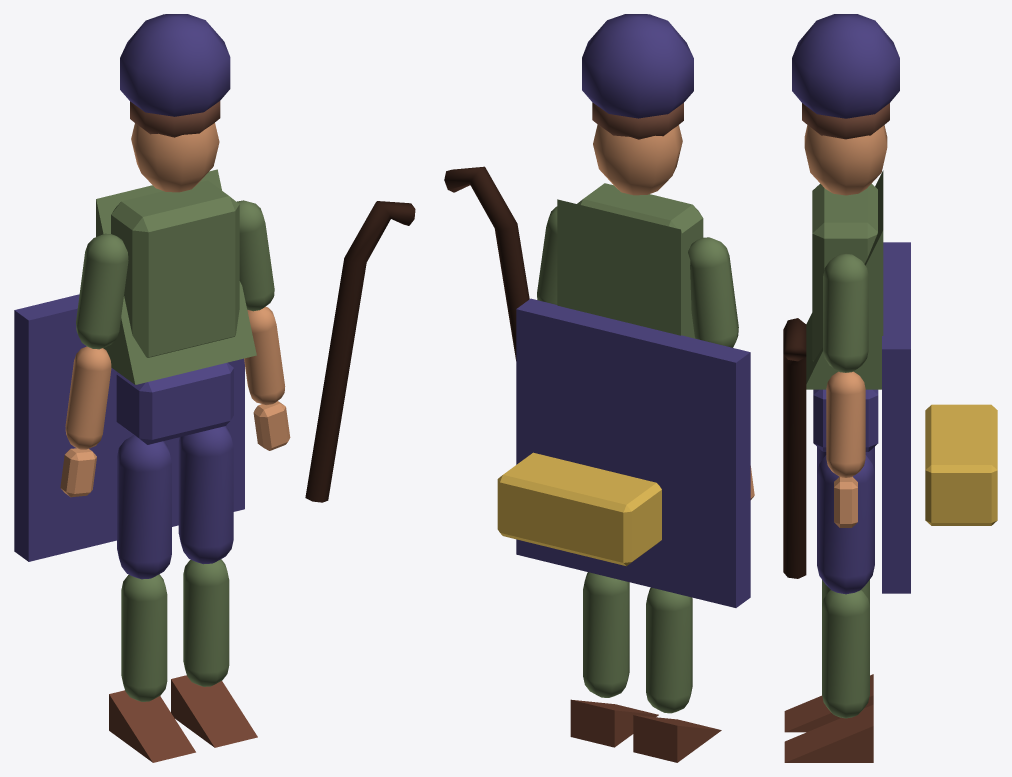
File: adventurer.rustic.glb
3 renders of one model, left to right at view 1: azimuth 30°, elevation 25°; view 2: azimuth 150°, elevation 25°; view 3: azimuth 270°, elevation 25°, orthographic.
Visible parts, largest first — view 1: accessory.back, torso, accessory.head, accessory.main-hand, thigh.left, pelvis, thigh.right, tunic, shin.right, shin.left, upper-arm.left, head (+8 smaller); view 2: accessory.back, tunic, accessory.waist, accessory.head, shin.left, shin.right, upper-arm.left, head, accessory.main-hand, torso, foot.left, foot.right (+2 smaller); view 3: accessory.back, accessory.head, accessory.waist, accessory.main-hand, shin.right, thigh.right, torso, upper-arm.right, head, tunic, forearm.right, foot.right (+4 smaller).
Boxes of the visible parts, <box> form: accessory.back: <box>14,294,244,561</box>; torso: <box>111,180,239,357</box>; accessory.head: <box>120,14,230,116</box>; accessory.main-hand: <box>305,201,415,502</box>; thigh.left: <box>117,435,171,579</box>; pelvis: <box>116,362,233,444</box>; thigh.right: <box>178,426,233,564</box>; tunic: <box>96,169,256,384</box>; shin.right: <box>183,559,229,686</box>; shin.left: <box>121,574,167,701</box>; upper-arm.left: <box>76,233,128,349</box>; head: <box>131,123,219,192</box>; accessory.back: <box>516,298,750,607</box>; tunic: <box>557,199,695,338</box>; accessory.waist: <box>497,452,661,566</box>; accessory.head: <box>582,14,693,118</box>; shin.left: <box>646,587,692,713</box>; shin.right: <box>583,572,629,697</box>; upper-arm.left: <box>688,237,738,347</box>; head: <box>593,124,682,195</box>; accessory.main-hand: <box>444,166,529,360</box>; torso: <box>577,183,703,251</box>; foot.left: <box>633,715,721,762</box>; foot.right: <box>570,699,658,747</box>; accessory.back: <box>882,242,910,593</box>; accessory.head: <box>792,14,899,118</box>; accessory.waist: <box>925,404,997,525</box>; accessory.main-hand: <box>783,318,806,578</box>; shin.right: <box>822,590,869,718</box>; thigh.right: <box>817,455,874,594</box>; torso: <box>812,183,877,361</box>; upper-arm.right: <box>823,253,868,372</box>; head: <box>804,125,887,195</box>; tunic: <box>806,170,883,389</box>; forearm.right: <box>826,371,865,477</box>; foot.right: <box>784,704,873,762</box>.
Size of the model in its own units: 1.66 by 3.29 by 0.89.
